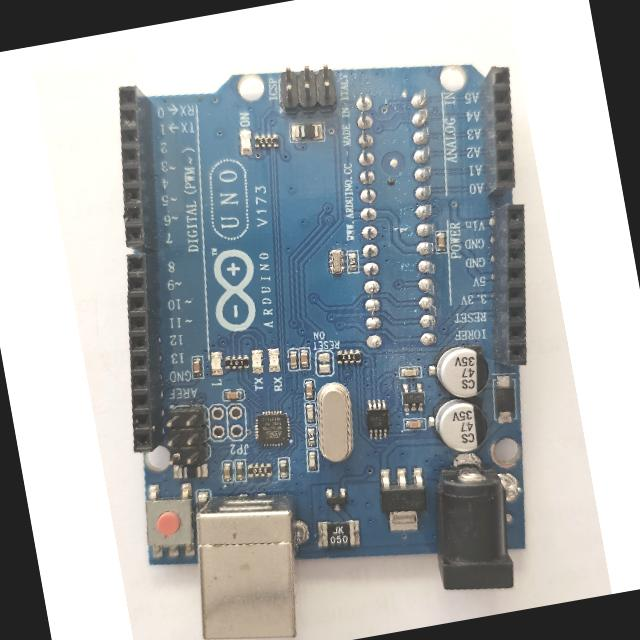missing_atmega: (348, 82, 446, 350)
